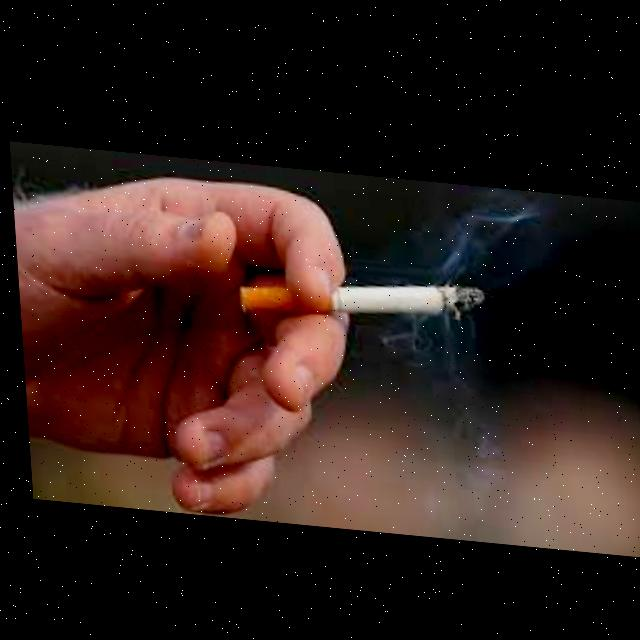cigarette: (234, 260, 484, 329)
